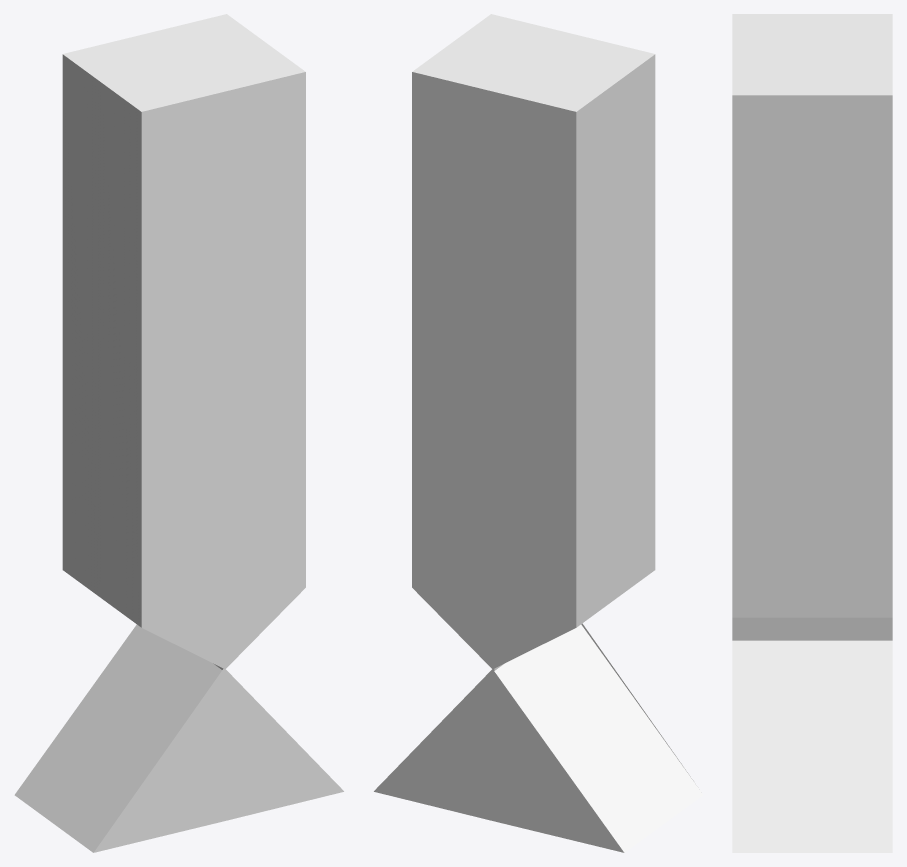
The model's file is Exclamation.obj.
3 renders of one model, left to right at view 1: azimuth 30°, elevation 25°; view 2: azimuth 150°, elevation 25°; view 3: azimuth 270°, elevation 25°, orthographic.
Parts seen in each view (by area): view 1: Plane; view 2: Plane; view 3: Plane.
Boxes of the visible parts, <box> form: Plane: <box>14,14,343,852</box>; Plane: <box>374,14,703,852</box>; Plane: <box>732,14,892,852</box>.
Bounding box in the file's own units: 0.3668 × 1.02 × 0.2.
1 material, 1 textured.
